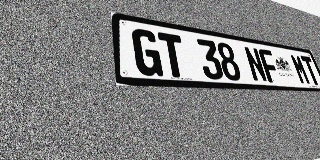3: (196, 38, 224, 80)
8: (215, 41, 242, 81)
F: (258, 48, 282, 83)
G: (131, 28, 163, 77)
M: (289, 54, 311, 85)
N: (243, 46, 268, 82)
T: (157, 32, 188, 78), (300, 55, 320, 85)
